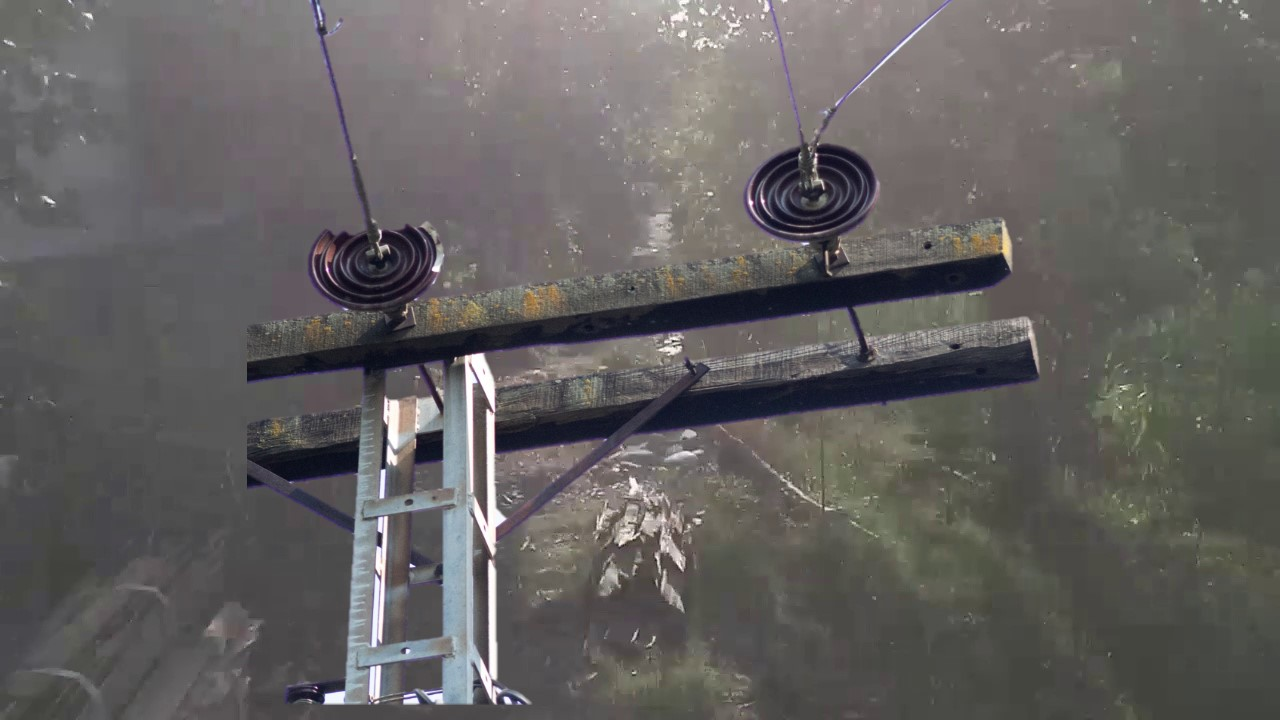defect_disc: (304, 211, 445, 320)
insulator_disc: (741, 141, 884, 250)
